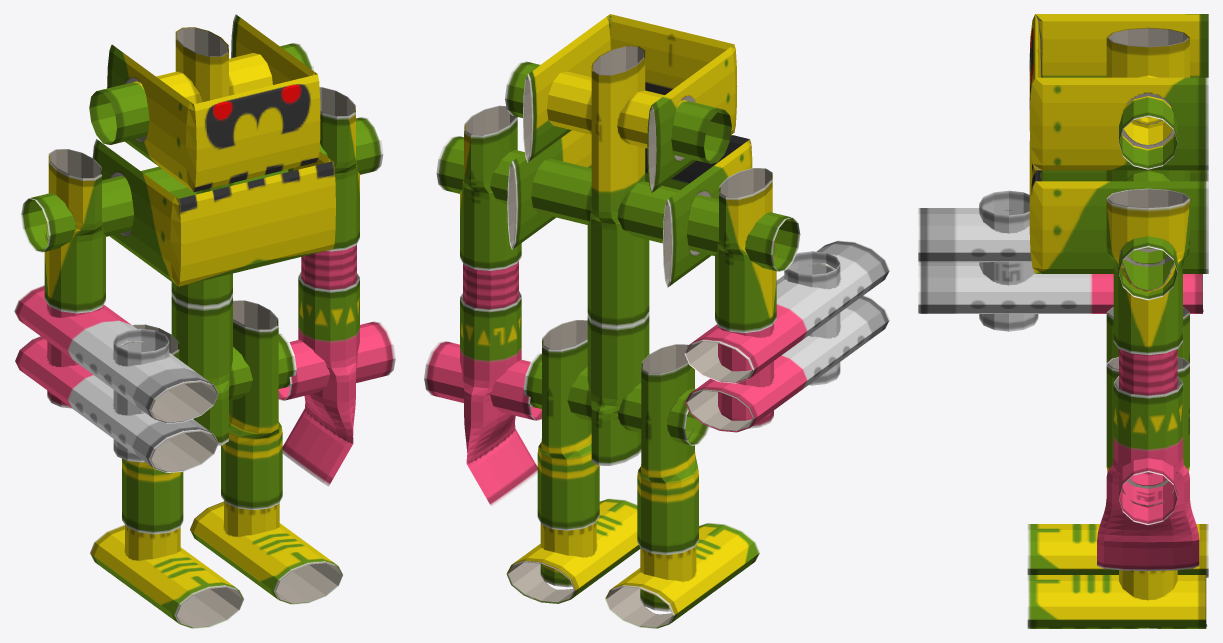
Rendered from goriborg.glb.
The picture shows the model from 3 angles, left to right: view 1: azimuth 30°, elevation 25°; view 2: azimuth 150°, elevation 25°; view 3: azimuth 270°, elevation 25°; orthographic projection. The views are drawn at different scales.
Visible parts, largest first — view 1: P4 ゴリボーグ_胴体_胸 [短冊1-2], P1 ゴリボーグ_頭_顔 [短冊1-1], P23 ゴリボーグ_腕_左手 [短冊2-5], P7 ゴリボーグ_道具_右手キャノン・上側の砲身 [短冊1-3], P27 ゴリボーグ_脚_左脚 [短冊2-7], P10 ゴリボーグ_道具_右手キャノン・下側の砲身 [短冊1-4], P19 ゴリボーグ_腕_右上腕 [短冊2-3], P29 ゴリボーグ_脚_右足 [短冊2-8], P31 ゴリボーグ_脚_左足 [短冊2-9], P35 ゴリボーグ_胴体_肩の接続軸 [短冊3-2], P34 ゴリボーグ_頭_左右の接続軸 [短冊3-1], P17 ゴリボーグ_胴体_腰の支柱 [短冊2-2] (+10 smaller); view 2: P1 ゴリボーグ_頭_顔 [短冊1-1], P14 ゴリボーグ_胴体_上側の支柱・頭の支え [短冊2-1], P35 ゴリボーグ_胴体_肩の接続軸 [短冊3-2], P25 ゴリボーグ_脚_右脚 [短冊2-6], P23 ゴリボーグ_腕_左手 [短冊2-5], P27 ゴリボーグ_脚_左脚 [短冊2-7], P7 ゴリボーグ_道具_右手キャノン・上側の砲身 [短冊1-3], P4 ゴリボーグ_胴体_胸 [短冊1-2], P34 ゴリボーグ_頭_左右の接続軸 [短冊3-1], P19 ゴリボーグ_腕_右上腕 [短冊2-3], P10 ゴリボーグ_道具_右手キャノン・下側の砲身 [短冊1-4], P21 ゴリボーグ_腕_左上腕 [短冊2-4] (+10 smaller); view 3: P1 ゴリボーグ_頭_顔 [短冊1-1], P23 ゴリボーグ_腕_左手 [短冊2-5], P4 ゴリボーグ_胴体_胸 [短冊1-2], P21 ゴリボーグ_腕_左上腕 [短冊2-4], P10 ゴリボーグ_道具_右手キャノン・下側の砲身 [短冊1-4], P31 ゴリボーグ_脚_左足 [短冊2-9], P7 ゴリボーグ_道具_右手キャノン・上側の砲身 [短冊1-3], P14 ゴリボーグ_胴体_上側の支柱・頭の支え [短冊2-1], P29 ゴリボーグ_脚_右足 [短冊2-8], P39 ゴリボーグ_道具_キャノンの前側接続軸 [短冊3-6], P34 ゴリボーグ_頭_左右の接続軸 [短冊3-1], P40 ゴリボーグ_腕_左手首の軸 [短冊3-7] (+5 smaller).
Part boxes in pixels (x1,y1,x2,y2): P4 ゴリボーグ_胴体_胸 [短冊1-2]: [92, 139, 335, 286]; P1 ゴリボーグ_頭_顔 [短冊1-1]: [107, 14, 320, 192]; P23 ゴリボーグ_腕_左手 [短冊2-5]: [282, 271, 359, 486]; P7 ゴリボーグ_道具_右手キャノン・上側の砲身 [短冊1-3]: [14, 284, 218, 423]; P27 ゴリボーグ_脚_左脚 [短冊2-7]: [221, 300, 282, 510]; P10 ゴリボーグ_道具_右手キャノン・下側の砲身 [短冊1-4]: [15, 336, 218, 472]; P19 ゴリボーグ_腕_右上腕 [短冊2-3]: [44, 149, 105, 313]; P29 ゴリボーグ_脚_右足 [短冊2-8]: [90, 524, 243, 628]; P31 ゴリボーグ_脚_左足 [短冊2-9]: [190, 501, 342, 604]; P35 ゴリボーグ_胴体_肩の接続軸 [短冊3-2]: [21, 117, 383, 252]; P34 ゴリボーグ_頭_左右の接続軸 [短冊3-1]: [89, 43, 313, 144]; P17 ゴリボーグ_胴体_腰の支柱 [短冊2-2]: [171, 295, 232, 445]; P1 ゴリボーグ_頭_顔 [短冊1-1]: [523, 14, 737, 192]; P14 ゴリボーグ_胴体_上側の支柱・頭の支え [短冊2-1]: [587, 45, 649, 327]; P35 ゴリボーグ_胴体_肩の接続軸 [短冊3-2]: [436, 136, 800, 271]; P25 ゴリボーグ_脚_右脚 [短冊2-6]: [637, 344, 698, 554]; P23 ゴリボーグ_腕_左手 [短冊2-5]: [460, 291, 537, 506]; P27 ゴリボーグ_脚_左脚 [短冊2-7]: [537, 320, 599, 530]; P7 ゴリボーグ_道具_右手キャノン・上側の砲身 [短冊1-3]: [684, 240, 889, 383]; P4 ゴリボーグ_胴体_胸 [短冊1-2]: [507, 130, 752, 287]; P34 ゴリボーグ_頭_左右の接続軸 [短冊3-1]: [505, 61, 731, 163]; P19 ゴリボーグ_腕_右上腕 [短冊2-3]: [715, 168, 776, 333]; P10 ゴリボーグ_道具_右手キャノン・下側の砲身 [短冊1-4]: [685, 295, 889, 432]; P21 ゴリボーグ_腕_左上腕 [短冊2-4]: [460, 105, 521, 270]; P1 ゴリボーグ_頭_顔 [短冊1-1]: [1029, 14, 1208, 170]; P23 ゴリボーグ_腕_左手 [短冊2-5]: [1097, 376, 1199, 570]; P4 ゴリボーグ_胴体_胸 [短冊1-2]: [1029, 141, 1208, 273]; P21 ゴリボーグ_腕_左上腕 [短冊2-4]: [1106, 188, 1189, 355]; P10 ゴリボーグ_道具_右手キャノン・下側の砲身 [短冊1-4]: [918, 262, 1203, 313]; P31 ゴリボーグ_脚_左足 [短冊2-9]: [1027, 575, 1207, 628]; P7 ゴリボーグ_道具_右手キャノン・上側の砲身 [短冊1-3]: [918, 208, 1031, 262]; P14 ゴリボーグ_胴体_上側の支柱・頭の支え [短冊2-1]: [1106, 27, 1189, 181]; P29 ゴリボーグ_脚_右足 [短冊2-8]: [1027, 524, 1208, 577]; P39 ゴリボーグ_道具_キャノンの前側接続軸 [短冊3-6]: [979, 190, 1038, 331]; P34 ゴリボーグ_頭_左右の接続軸 [短冊3-1]: [1119, 75, 1177, 169]; P40 ゴリボーグ_腕_左手首の軸 [短冊3-7]: [1119, 458, 1177, 525].
Bounding box in the file's own units: 0.056 × 0.082 × 0.0385.
Materials: 36 (36 with a texture image).
